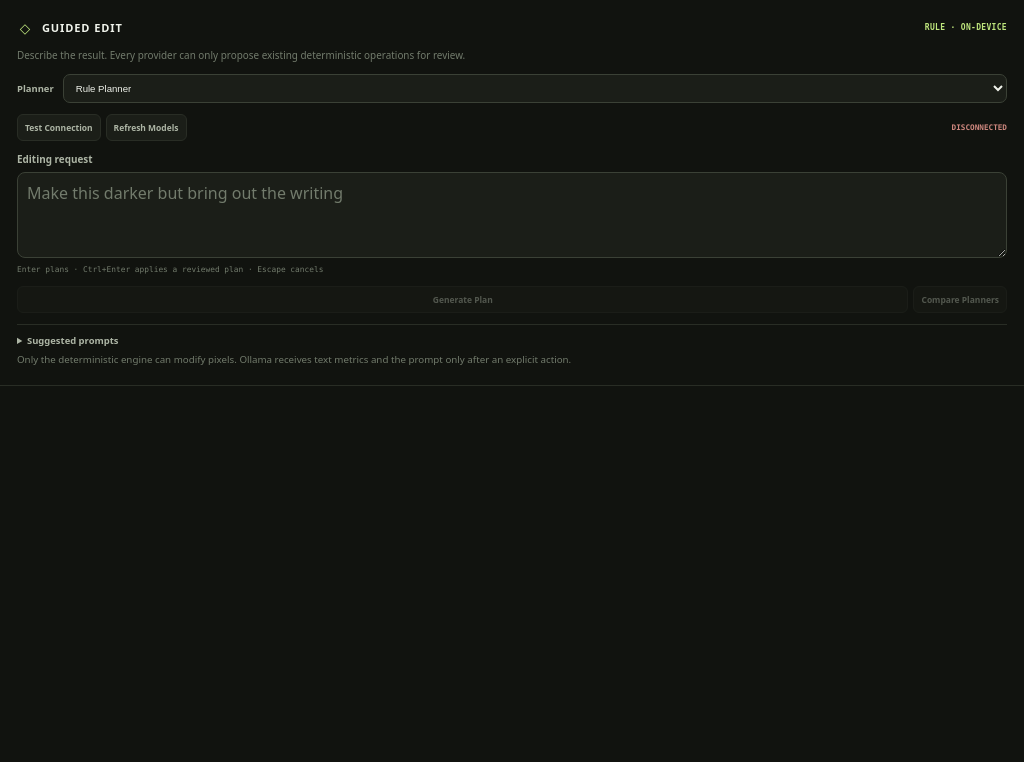
Test: GuidedEditPanel › lets users adjust operation strength before validation
Type "Reduce noise" into the text box labelled "Editing request" at [512, 215], box [17,172,1007,258]
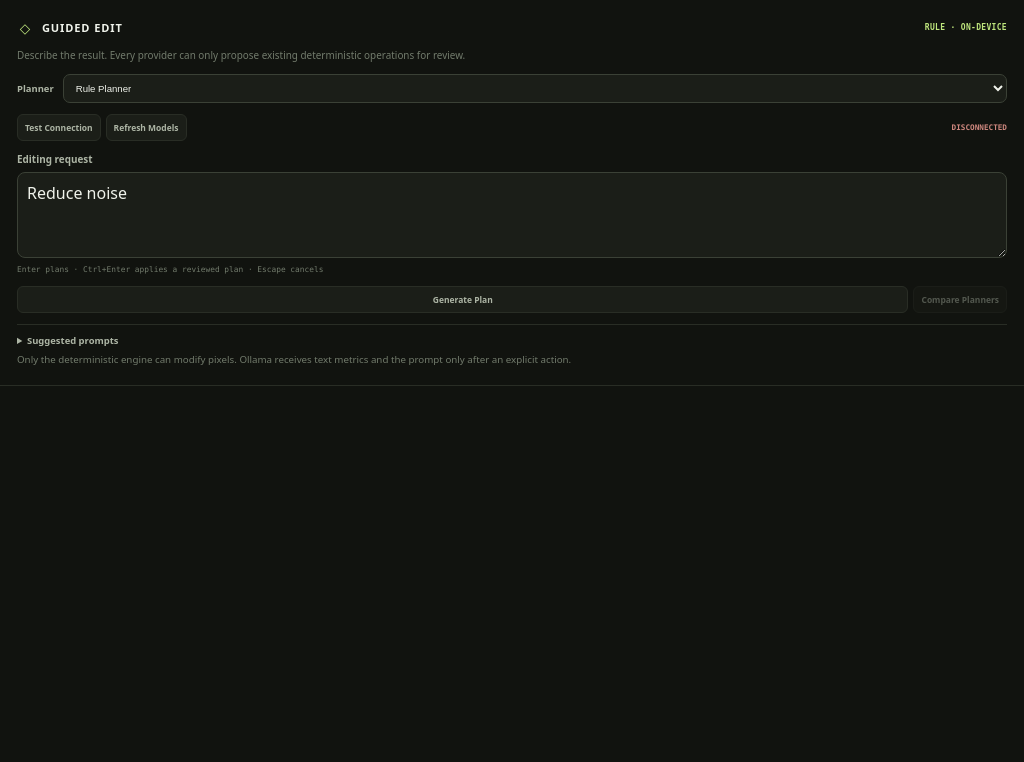
Click the button "Generate Plan" at [463, 300], box [17,286,908,313]
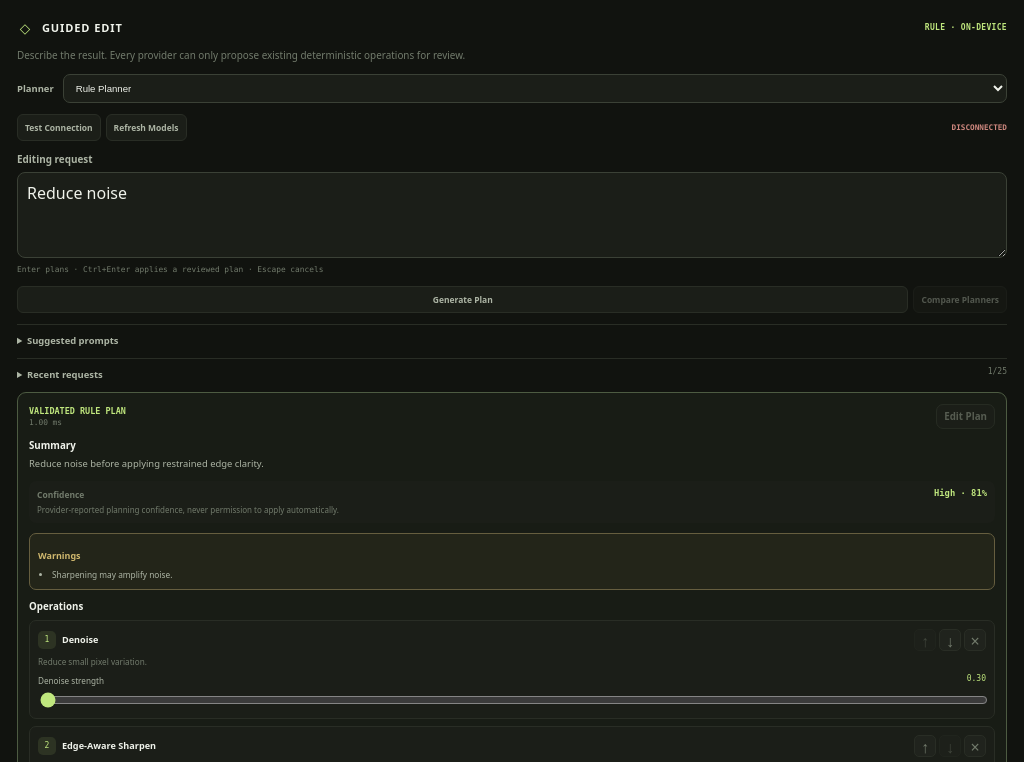
Expected: the slider named "Denoise strength" is shown
Set the slider named "Denoise strength" to "0.6" at [607, 700], box [40,692,988,708]
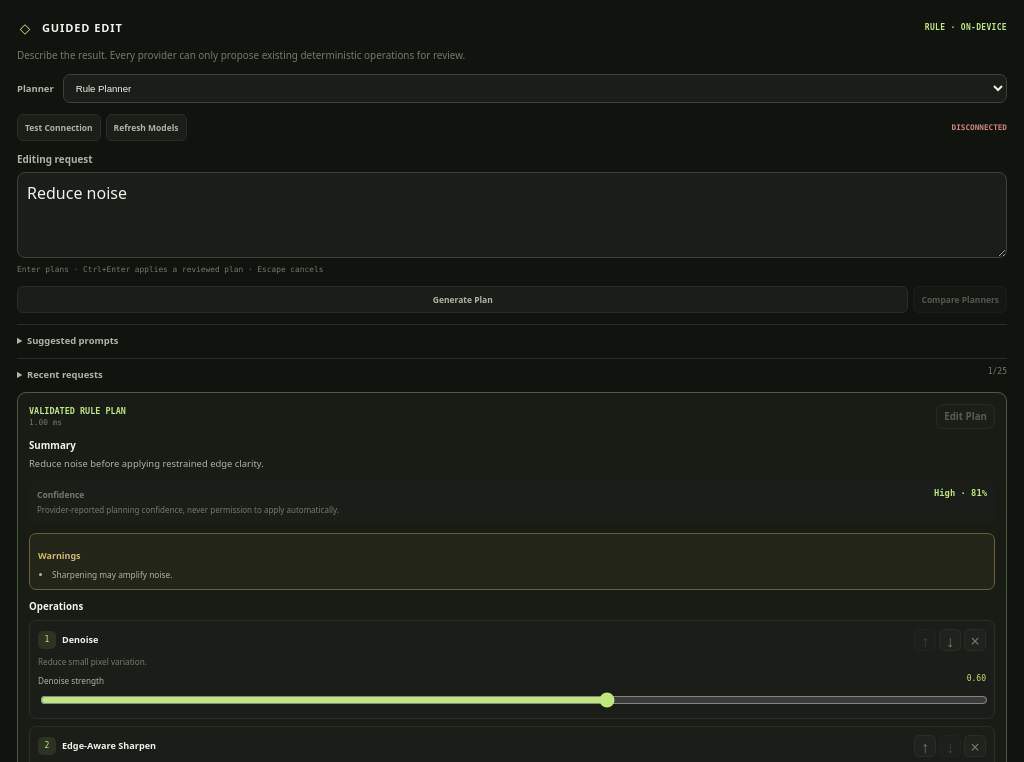
Expected: the text "0.60" is shown, [967,674,986,686]
